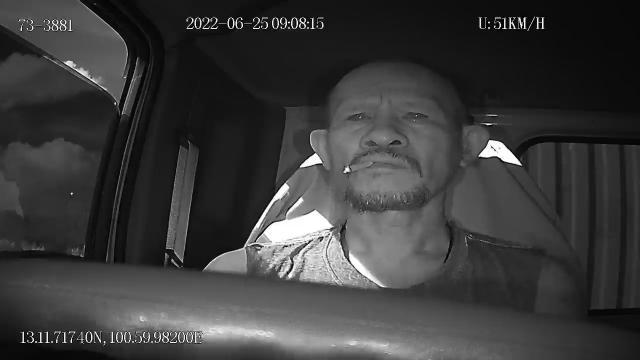SafeDriving: (394, 99, 438, 128), (338, 100, 379, 130)
Smoking: (342, 159, 372, 175)
